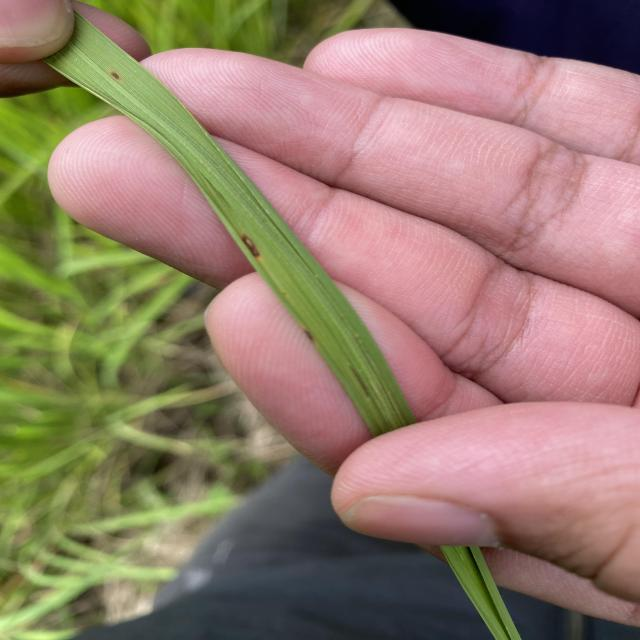Dom nau: (240, 232, 261, 258), (304, 329, 315, 343), (109, 71, 120, 80)
